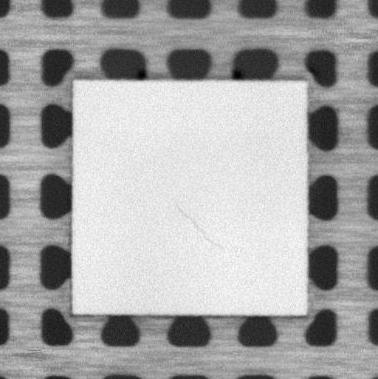DIE_CRACK: (177, 202, 226, 250)
